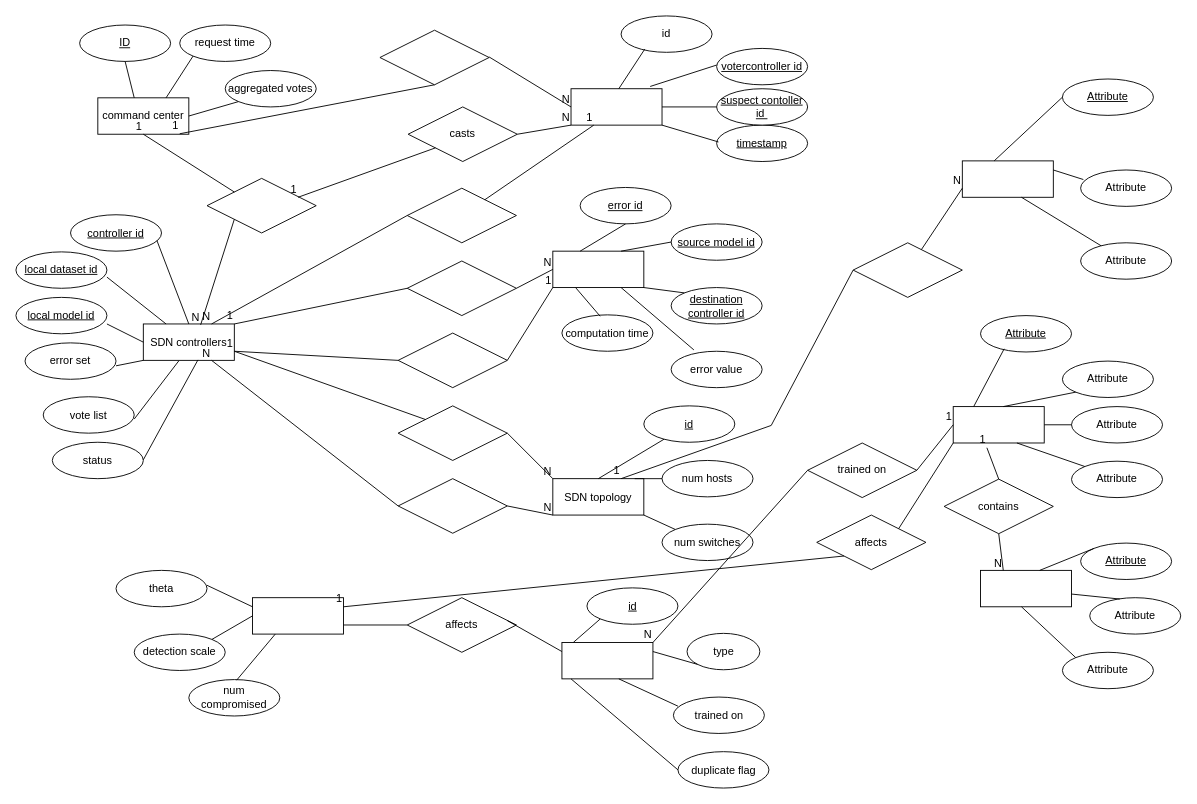
This 1197x804 diagram has some shape labels left out. The box of each missing label's shape, as (x1, y1, x2, y2) in pixels:
]manages: (397, 332, 507, 388)
aggregates: (379, 29, 489, 85)
attack parameters: (252, 597, 344, 634)
computes: (406, 260, 516, 316)
data plane device: (961, 160, 1053, 197)
dataset: (952, 406, 1044, 443)
error recorfd: (552, 250, 644, 288)
has: (852, 242, 962, 297)
hosts: (397, 405, 507, 460)
ML model: (561, 642, 653, 679)
points to: (406, 187, 516, 243)
sample: (980, 569, 1072, 607)
sends request: (206, 177, 316, 233)
transferred: (397, 478, 507, 533)
vote: (570, 88, 662, 125)
